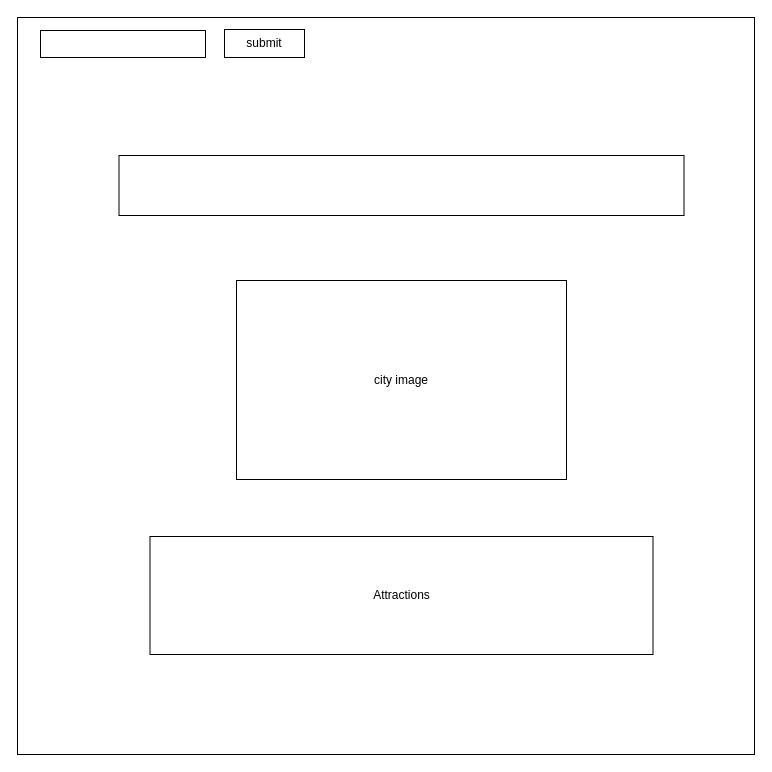
Image size: 772x772. Some labels were removed from this diagram. The shapes that lost their labels are listed below. From the top down, each one's centre as x and y in pixels, then its label:
point 123,44: search bar
point 401,185: City
